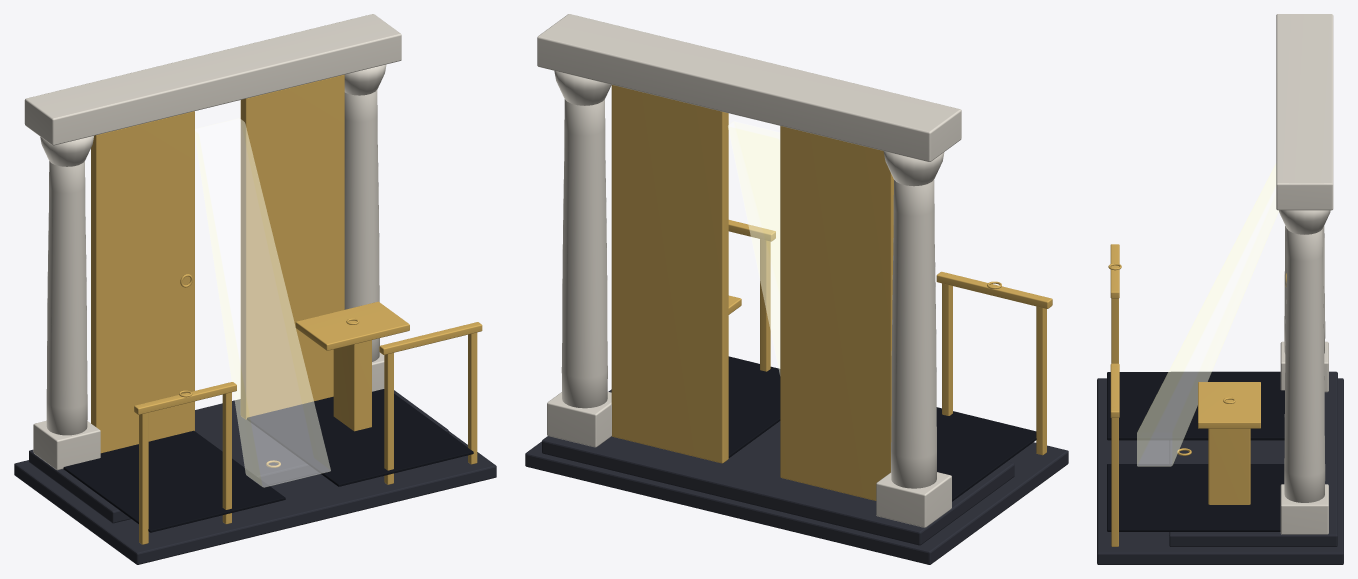
The model's file is webtoon-slit-godray-threshold-15pct-v21.glb.
3 renders of one model, left to right at view 1: azimuth 30°, elevation 25°; view 2: azimuth 150°, elevation 25°; view 3: azimuth 270°, elevation 25°, orthographic. The views are drawn at different scales.
Parts seen in each view (by area): view 1: Articulated_Beat1_15Pct_DoorsAndIkRig, Beat1_15Pct_PortalColonnade, Volumetric_Beat1_15Pct_GodRaySlit, ShadowDrift_Beat1_15Pct_UmbraMask, Beat1_15Pct_DatumDeck; view 2: Articulated_Beat1_15Pct_DoorsAndIkRig, Beat1_15Pct_PortalColonnade, Beat1_15Pct_DatumDeck, ShadowDrift_Beat1_15Pct_UmbraMask, Volumetric_Beat1_15Pct_GodRaySlit; view 3: Beat1_15Pct_PortalColonnade, ShadowDrift_Beat1_15Pct_UmbraMask, Beat1_15Pct_DatumDeck, Volumetric_Beat1_15Pct_GodRaySlit, Articulated_Beat1_15Pct_DoorsAndIkRig.
Boxes of the visible parts, x1,y1,x2,y2 form: Articulated_Beat1_15Pct_DoorsAndIkRig: (91, 74, 482, 544); Beat1_15Pct_PortalColonnade: (24, 14, 401, 470); Volumetric_Beat1_15Pct_GodRaySlit: (195, 118, 330, 487); ShadowDrift_Beat1_15Pct_UmbraMask: (63, 389, 473, 532); Beat1_15Pct_DatumDeck: (14, 390, 496, 564); Articulated_Beat1_15Pct_DoorsAndIkRig: (611, 85, 1052, 500); Beat1_15Pct_PortalColonnade: (537, 14, 961, 527); Beat1_15Pct_DatumDeck: (525, 389, 1068, 564); ShadowDrift_Beat1_15Pct_UmbraMask: (728, 356, 1036, 501); Volumetric_Beat1_15Pct_GodRaySlit: (728, 121, 779, 373); Beat1_15Pct_PortalColonnade: (1276, 14, 1333, 534); ShadowDrift_Beat1_15Pct_UmbraMask: (1107, 372, 1284, 531); Beat1_15Pct_DatumDeck: (1097, 371, 1343, 564); Volumetric_Beat1_15Pct_GodRaySlit: (1137, 164, 1278, 466); Articulated_Beat1_15Pct_DoorsAndIkRig: (1108, 244, 1286, 546).
Size of the model in its own units: 2.76 by 2.78 by 1.64.
